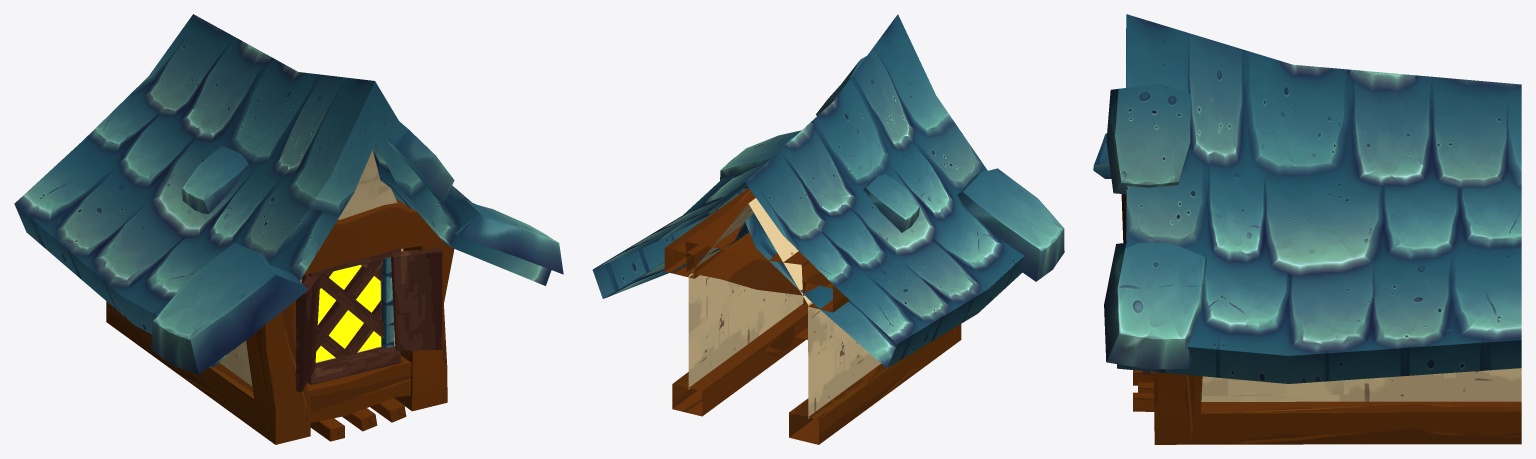
File: SM_BLD_window_v04_01.glb
3 views of the same model, side by side, from view 1: azimuth 30°, elevation 25°; view 2: azimuth 150°, elevation 25°; view 3: azimuth 270°, elevation 25° (orthographic). The views are drawn at different scales.
Parts seen in each view (by area): view 1: SM_BLD_window_v04_01_EXPORT; view 2: SM_BLD_window_v04_01_EXPORT; view 3: SM_BLD_window_v04_01_EXPORT.
Part boxes in pixels (x1,y1,x2,y2): SM_BLD_window_v04_01_EXPORT: [14, 14, 563, 444]; SM_BLD_window_v04_01_EXPORT: [592, 14, 1064, 444]; SM_BLD_window_v04_01_EXPORT: [1093, 14, 1521, 444].
Bounding box in the file's own units: 4.28 × 3.82 × 3.83.
5 materials, 5 textured.
